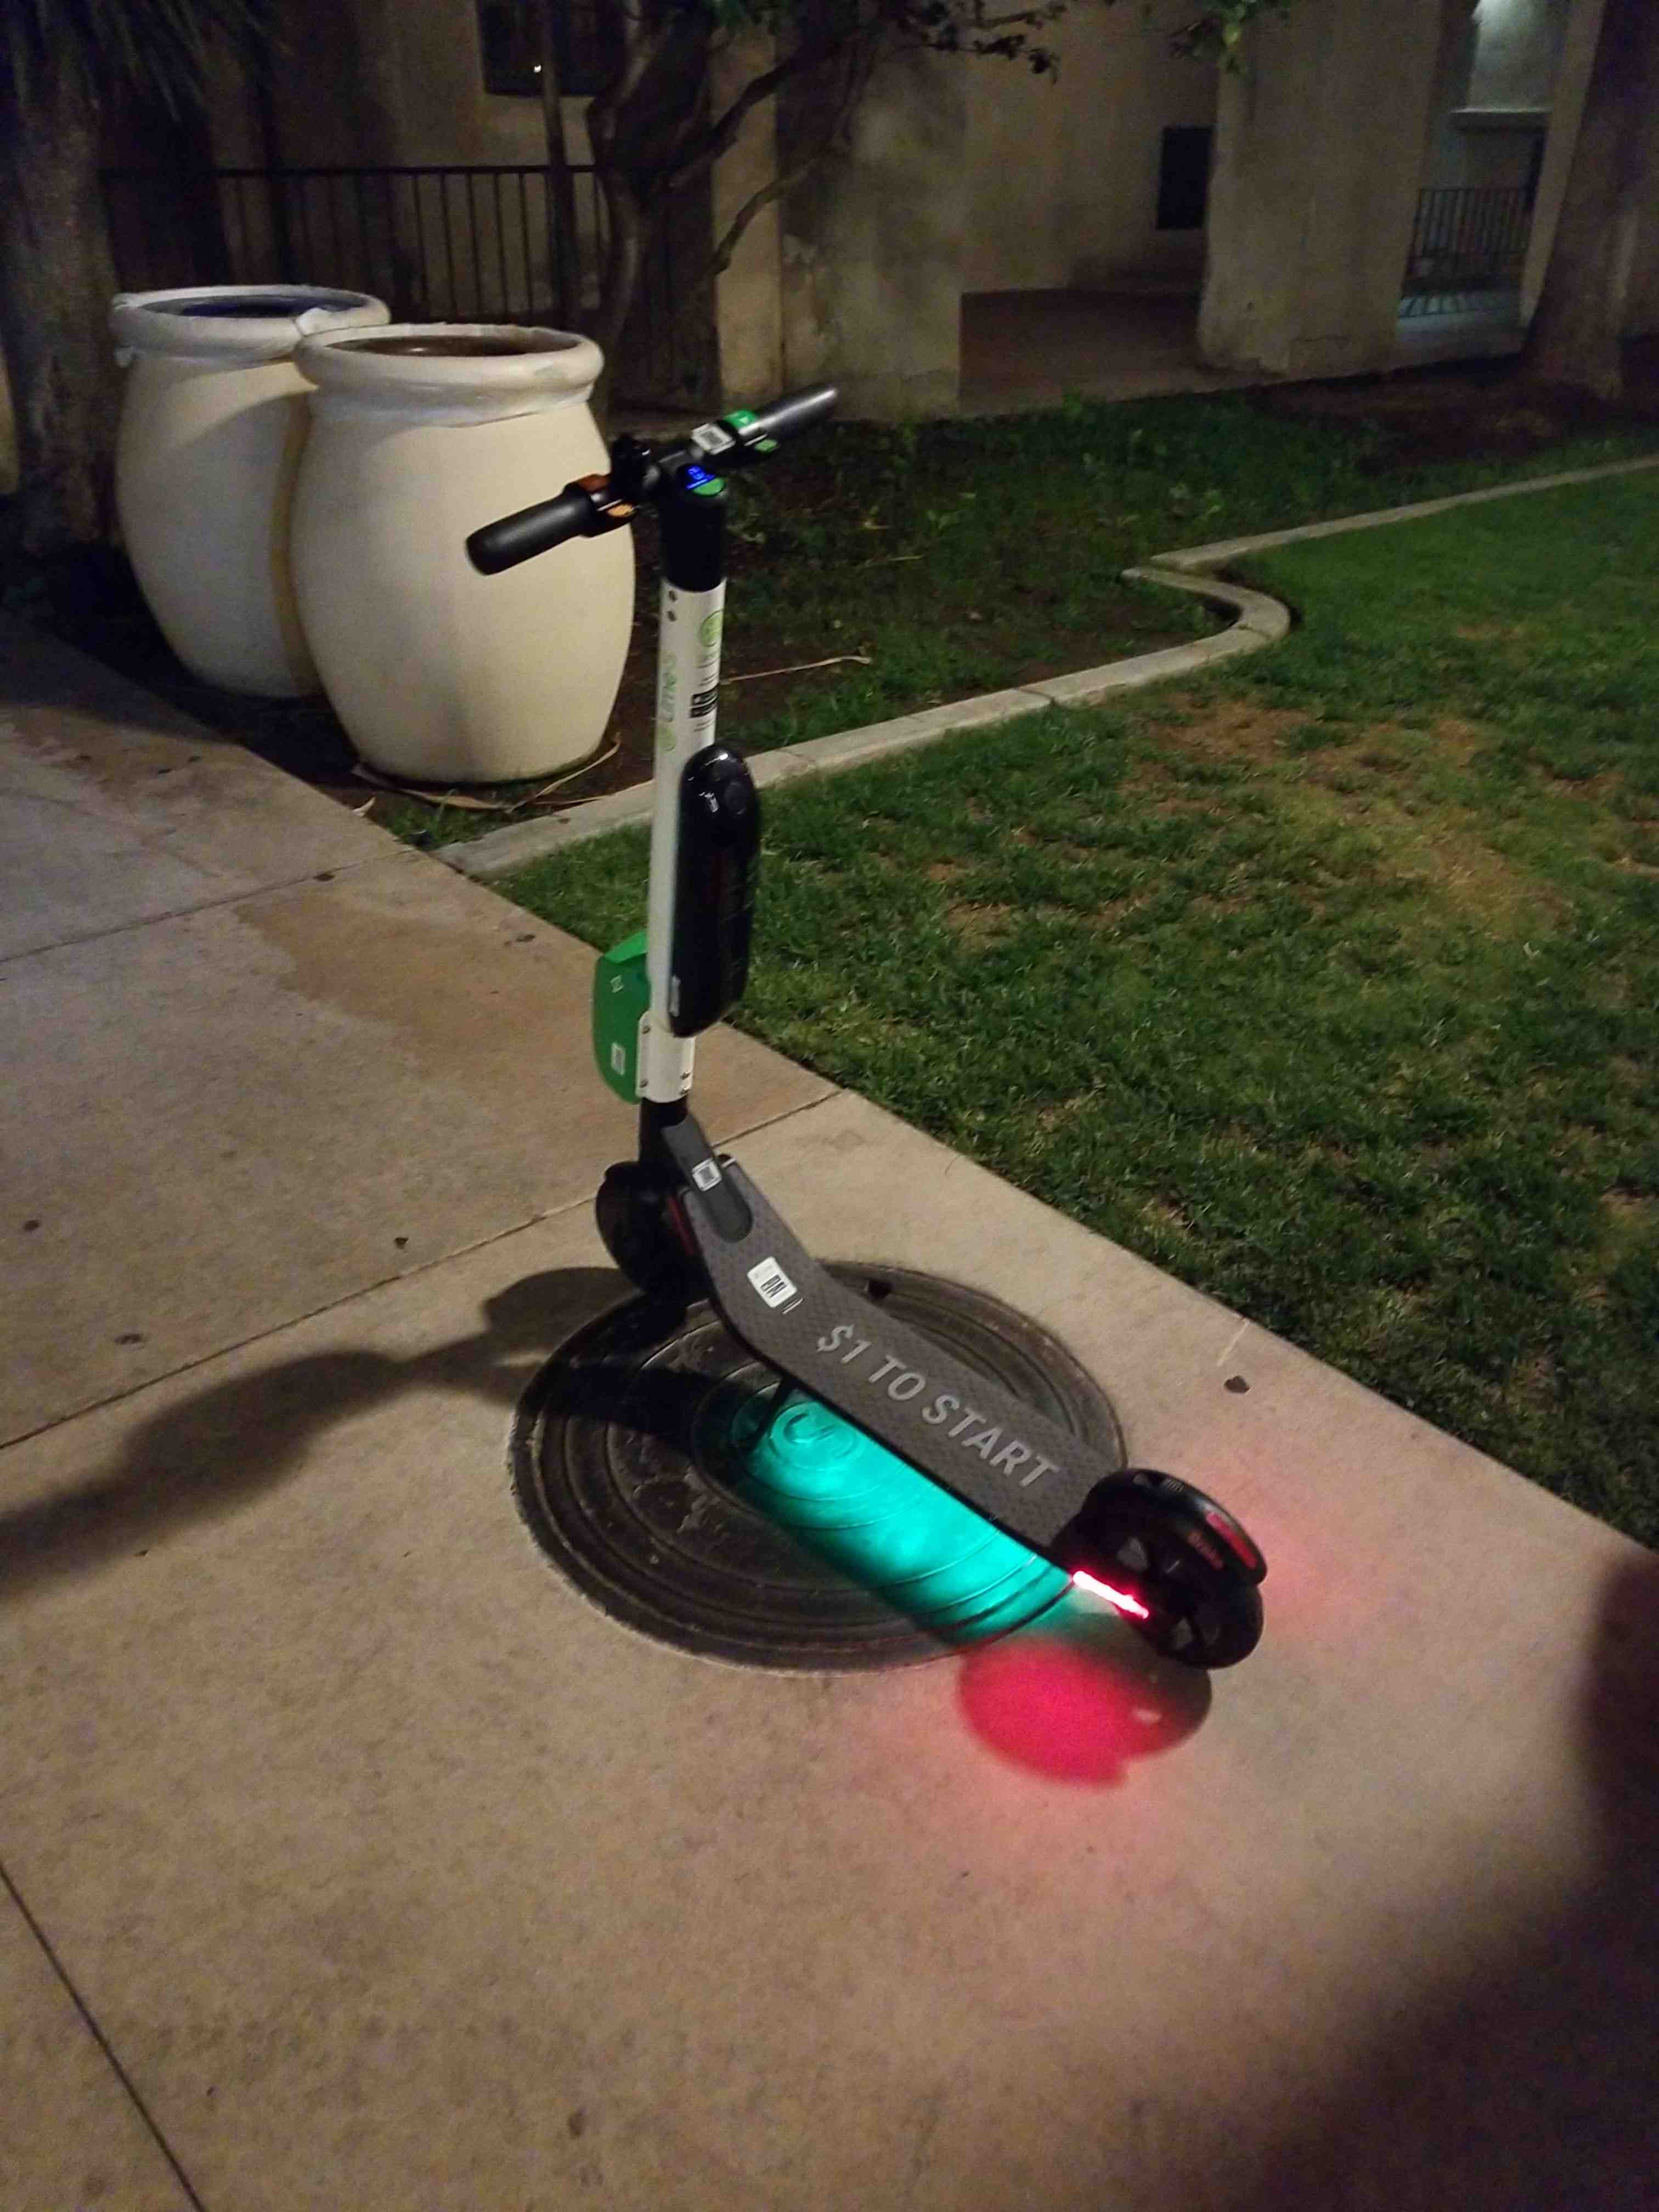scooter: (460, 369, 1291, 1710)
